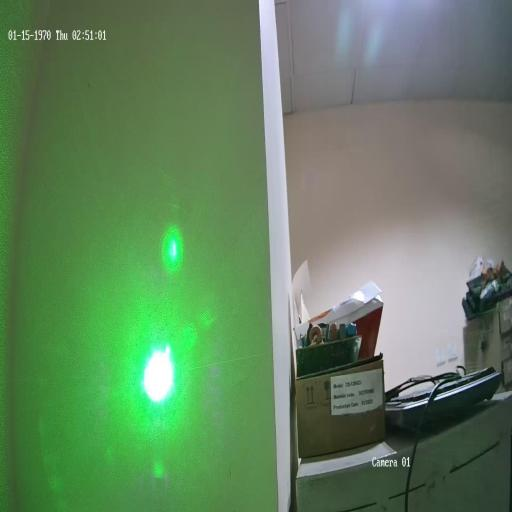laser: (132, 332, 182, 413)
